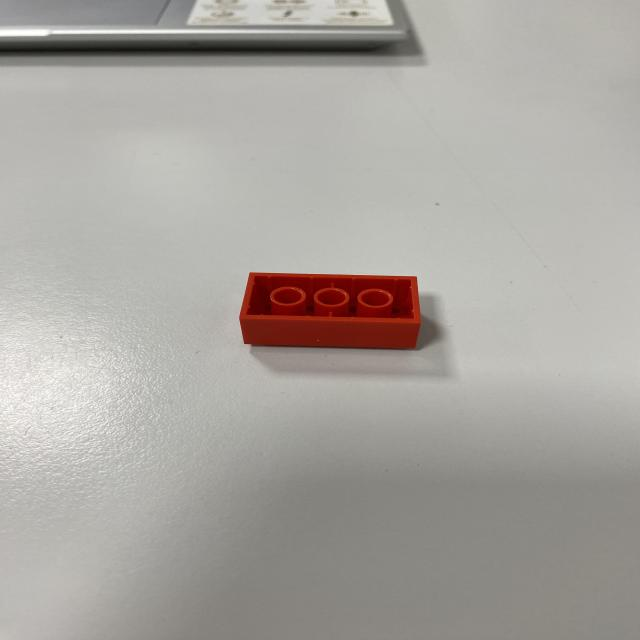C4x2x1: (237, 270, 423, 318), (235, 315, 419, 344)
